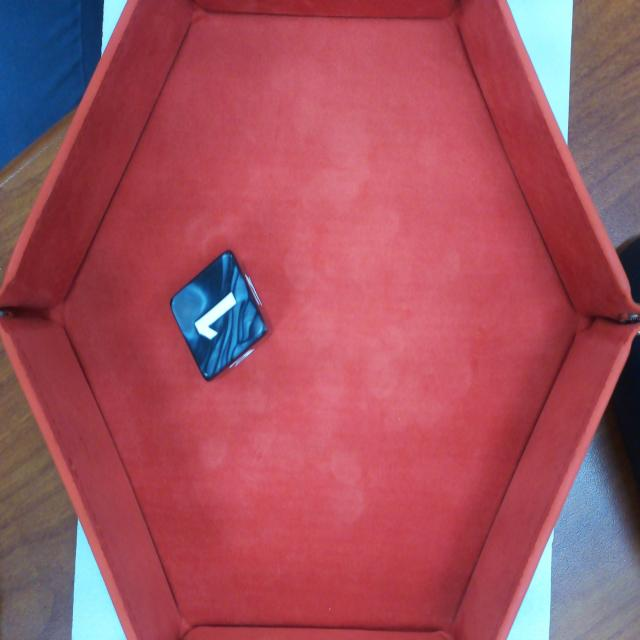dice: (170, 251, 269, 382)
